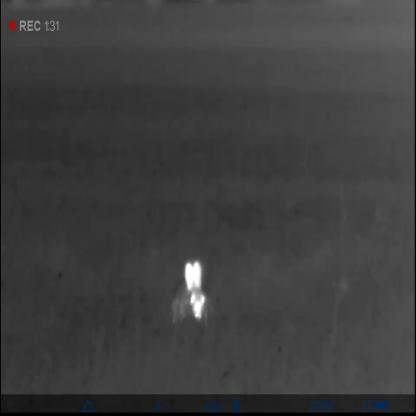rehkitze: (172, 262, 209, 327)
